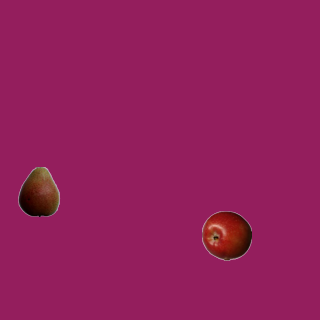Apple Braeburn: (201, 210, 251, 260)
Pear Forelle: (13, 166, 63, 216)
